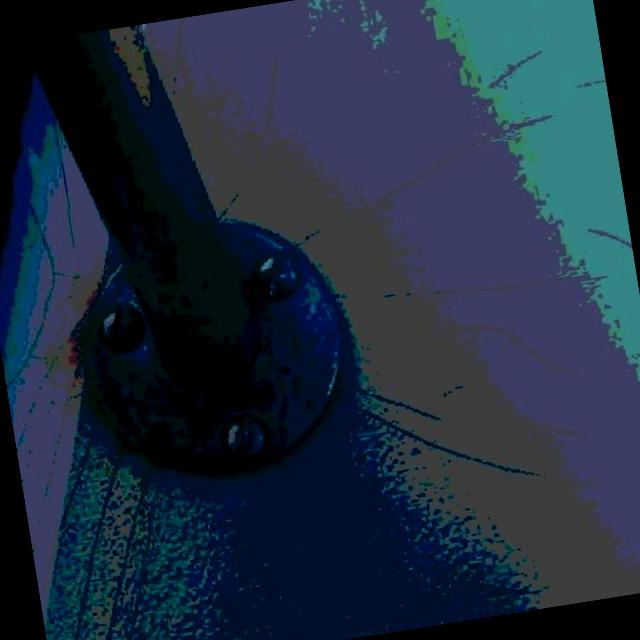crack: (337, 383, 513, 513), (346, 364, 444, 420)
